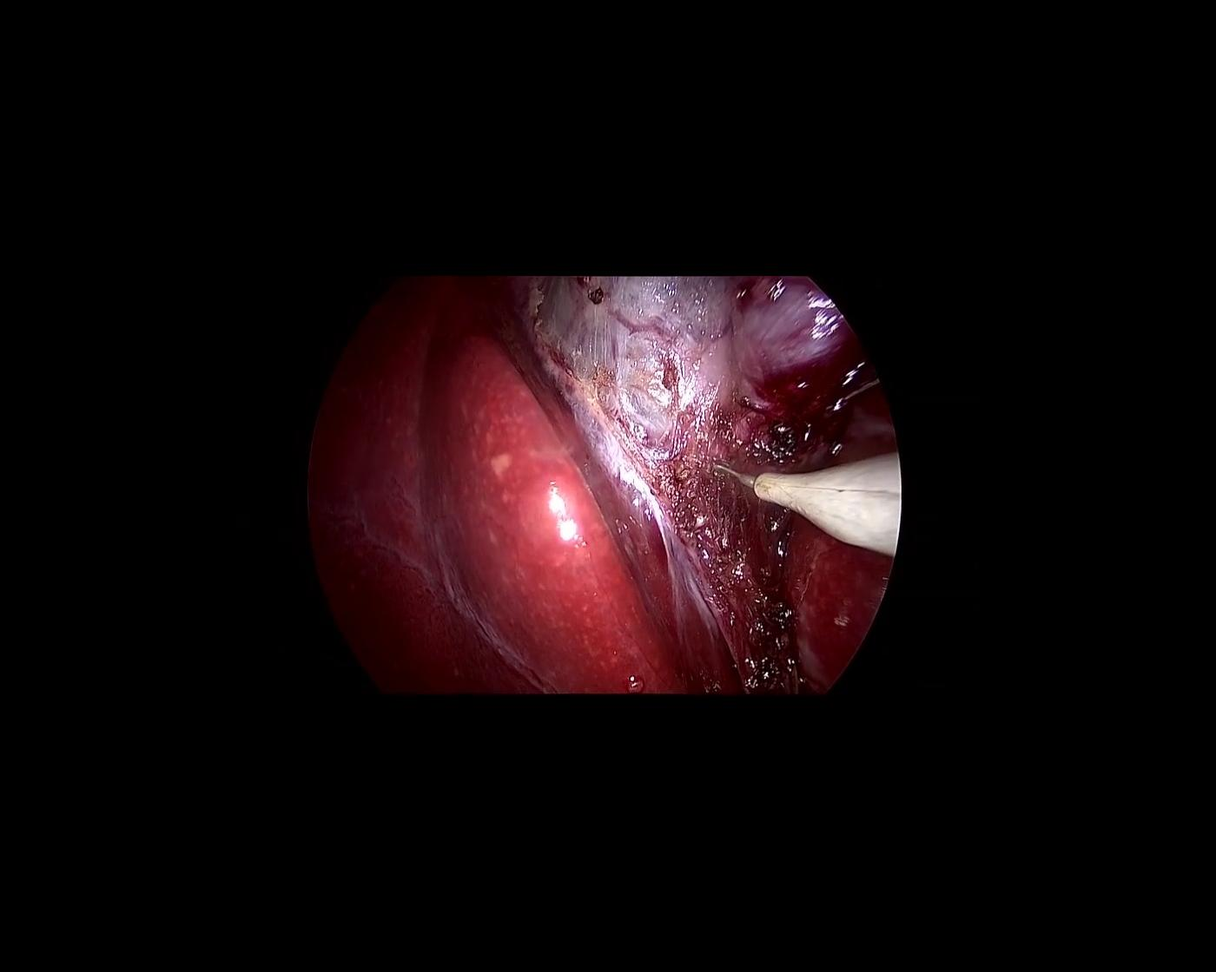Cautery: (707, 449, 900, 557)
Gallbladder: (503, 139, 859, 488)
Liver: (207, 230, 748, 847), (762, 379, 924, 700)
